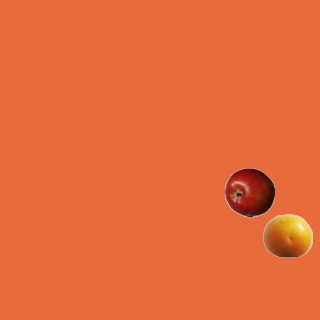Apple Braeburn: (224, 167, 274, 217)
Cherry Wax Yellow: (262, 210, 312, 260)
